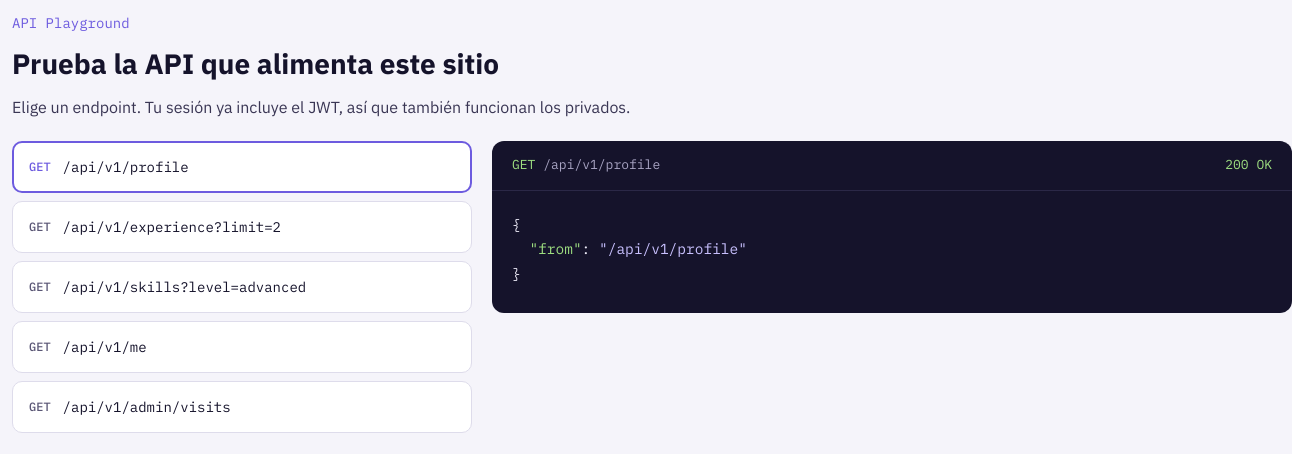
ApiPlayground › shows 403 for admin/visits as a response, not as an error
The width and height of the screenshot is (1292, 454).
Expected: the element showing "GET /api/v1/profile 200 OK { \"from\": \"/api/v1/profile\" }" is shown, [492, 141, 1291, 312]
Click the button "GET /api/v1/admin/visits".
click(147, 407)  # box [12, 381, 472, 433]
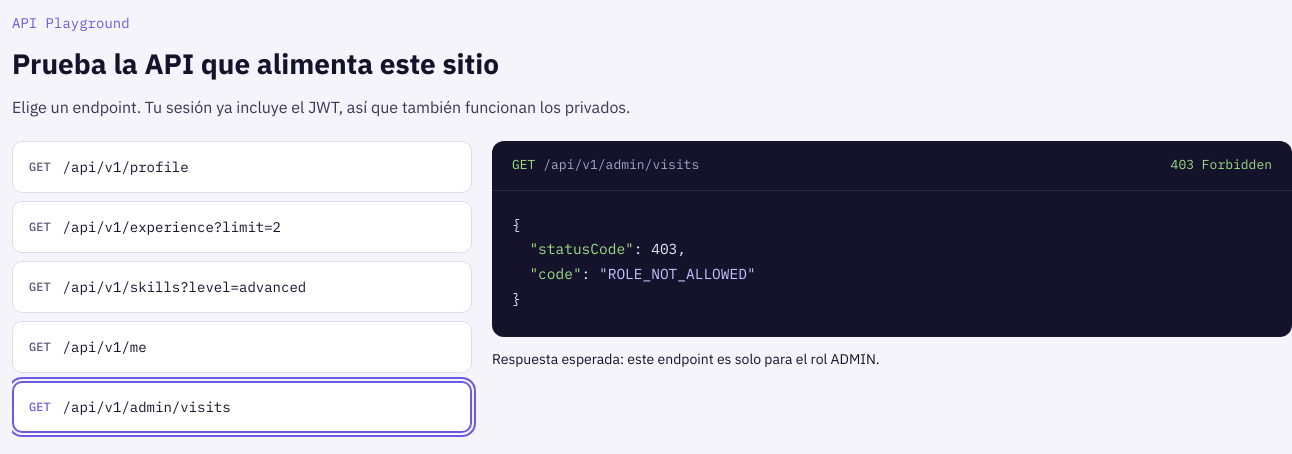
Expected: the element named "GET /api/v1/admin/visits 403 Forbidden" shows "403 Forbidden", [1171, 156, 1272, 173]
Expected: the element named "GET /api/v1/admin/visits 403 Forbidden" shows "\"code\": \"ROLE_NOT_ALLOWED\"", [492, 141, 1291, 337]
Expected: the text "Respuesta esperada: este endpoint es solo para el rol ADMIN." is shown, [492, 350, 880, 368]
